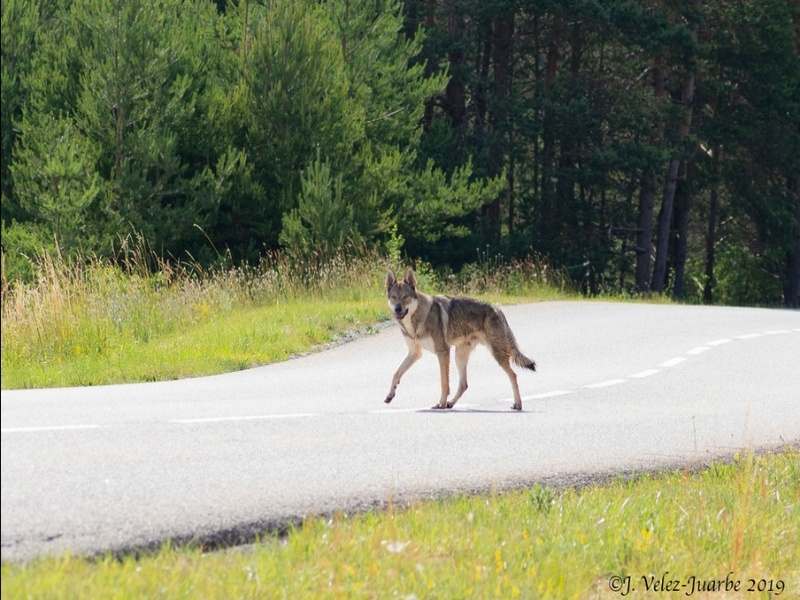dog: (375, 268, 536, 418)
